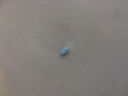Majezik: (60, 46, 69, 56)
